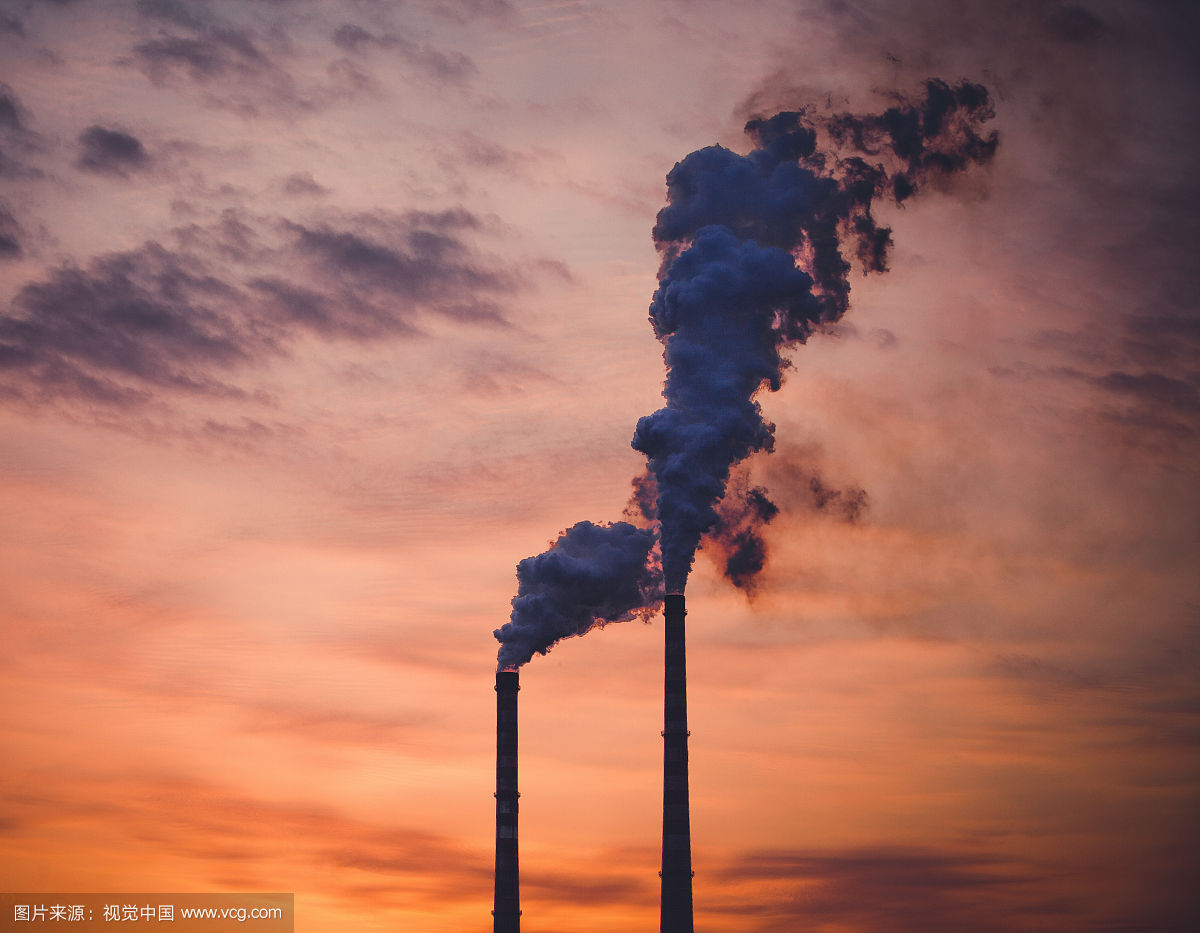dust: (623, 105, 881, 618), (470, 515, 653, 695)
